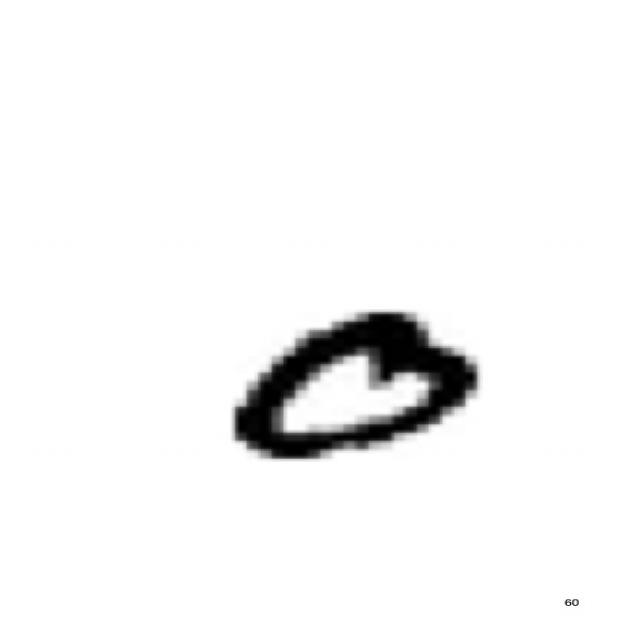5 -five-: (218, 300, 488, 472)
